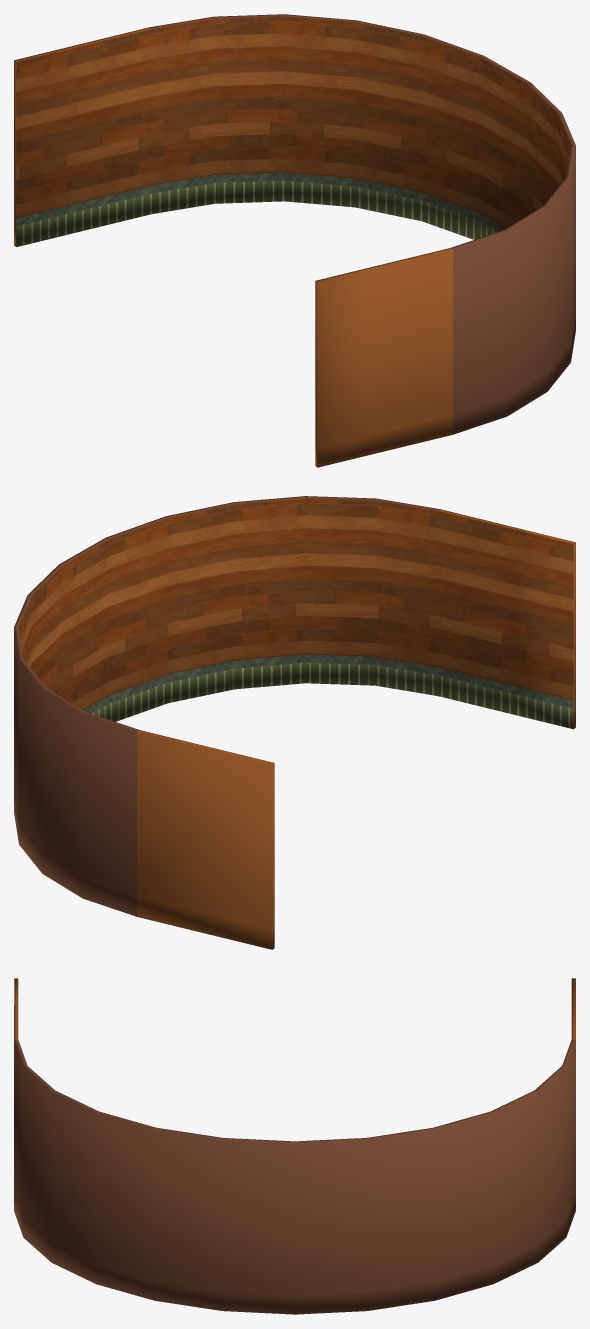
File: CurvedBackWall.fbx
The picture shows the model from 3 angles, top to bottom: view 1: azimuth 30°, elevation 25°; view 2: azimuth 150°, elevation 25°; view 3: azimuth 270°, elevation 25°; orthographic projection. The views are drawn at different scales.
Visible parts, largest first — view 1: Plane.016; view 2: Plane.016; view 3: Plane.016.
Part boxes in pixels (<box>): Plane.016: <box>14,14,575,467</box>; Plane.016: <box>14,496,575,949</box>; Plane.016: <box>14,978,575,1314</box>.
Bounding box in the file's own units: 10107 × 4901 × 14564.
